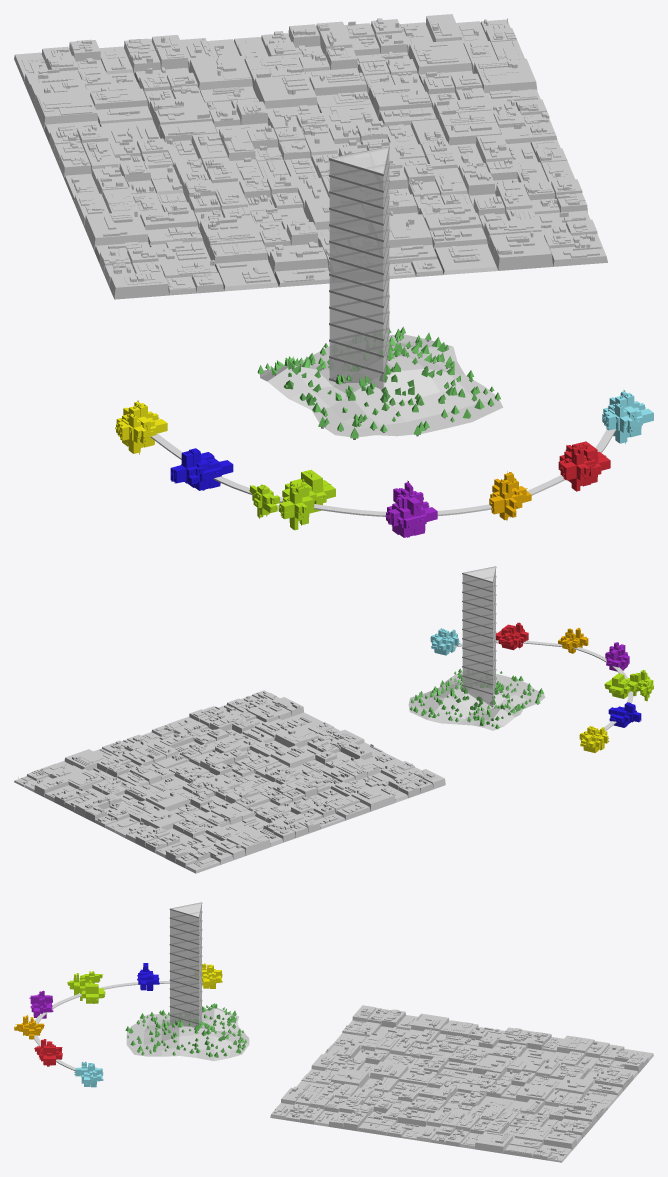
File: world.FBX
The picture shows the model from 3 angles, top to bottom: view 1: azimuth 30°, elevation 25°; view 2: azimuth 150°, elevation 25°; view 3: azimuth 270°, elevation 25°; orthographic projection. The views are drawn at different scales.
Visible parts, largest first — view 1: Plane002, Gengon001, Plane001, tree024, Box005, Box004, Line018, Box006, Box002, Box007, Box001, Box003; view 2: Plane002, Gengon001, Plane001, tree024, Box005, Box002, Box007, Box001, Box006, Box004, Line018, Box003; view 3: Plane002, Plane001, Gengon001, tree024, Box005, Box001, Box002, Line018, Box004, Box007, Box003, Box006.
Part boxes in pixels (x1,y1,x2,y2): Plane002: [14, 14, 607, 299]; Gengon001: [329, 147, 389, 389]; Plane001: [259, 334, 503, 437]; tree024: [257, 326, 500, 439]; Box005: [249, 469, 335, 530]; Box004: [385, 480, 437, 537]; Line018: [150, 429, 616, 516]; Box006: [170, 448, 233, 490]; Box002: [558, 441, 610, 491]; Box007: [115, 400, 167, 454]; Box001: [602, 389, 653, 444]; Box003: [489, 471, 531, 520]; Plane002: [14, 690, 445, 873]; Gengon001: [462, 566, 495, 705]; Plane001: [408, 672, 545, 730]; tree024: [410, 668, 544, 729]; Box005: [604, 670, 653, 701]; Box002: [496, 622, 528, 650]; Box007: [579, 726, 609, 752]; Box001: [430, 628, 460, 655]; Box006: [608, 702, 641, 727]; Box004: [605, 642, 629, 671]; Line018: [454, 640, 633, 730]; Box003: [558, 628, 588, 653]; Plane002: [270, 1005, 653, 1162]; Plane001: [126, 1008, 249, 1061]; Gengon001: [170, 902, 201, 1028]; tree024: [125, 1003, 246, 1057]; Box005: [67, 971, 105, 1003]; Box001: [74, 1061, 103, 1087]; Box002: [34, 1039, 62, 1066]; Line018: [34, 981, 213, 1070]; Box004: [29, 990, 53, 1018]; Box007: [202, 963, 222, 988]; Box003: [14, 1015, 44, 1039]; Box006: [137, 963, 159, 990].
Bounding box in the file's own units: 290 × 95.92 × 414.
